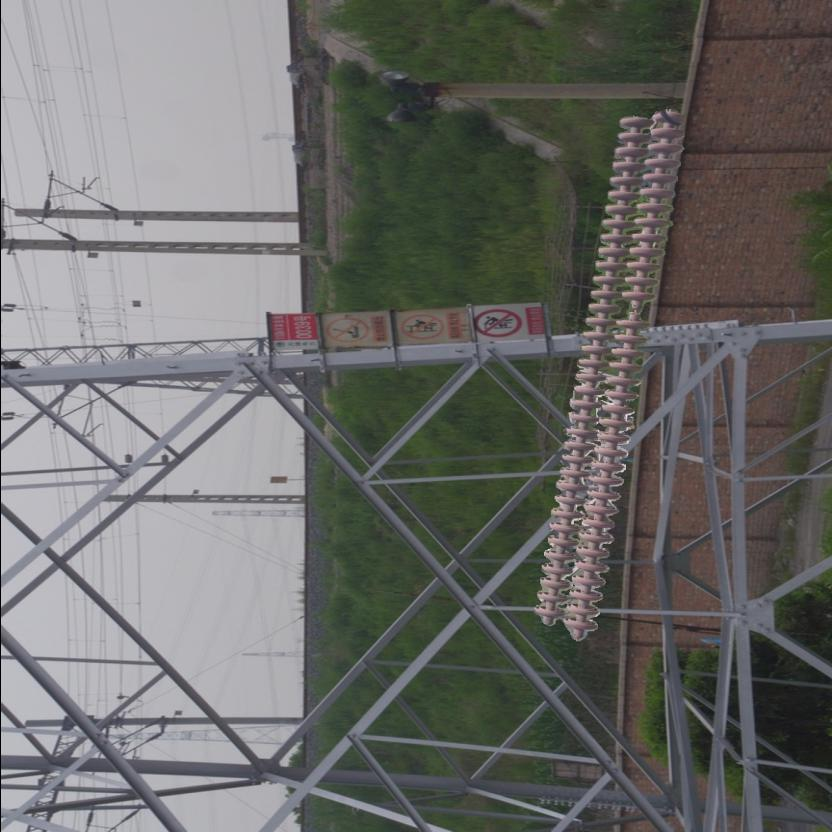defect: (612, 287, 656, 333)
